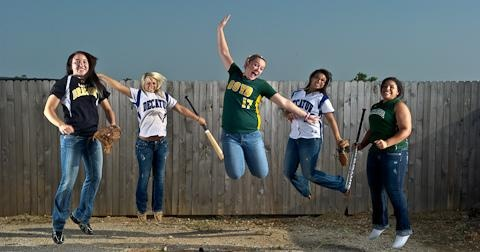person: (215, 15, 322, 177), (96, 68, 207, 223), (42, 50, 119, 245), (350, 76, 422, 245), (282, 68, 353, 199)
